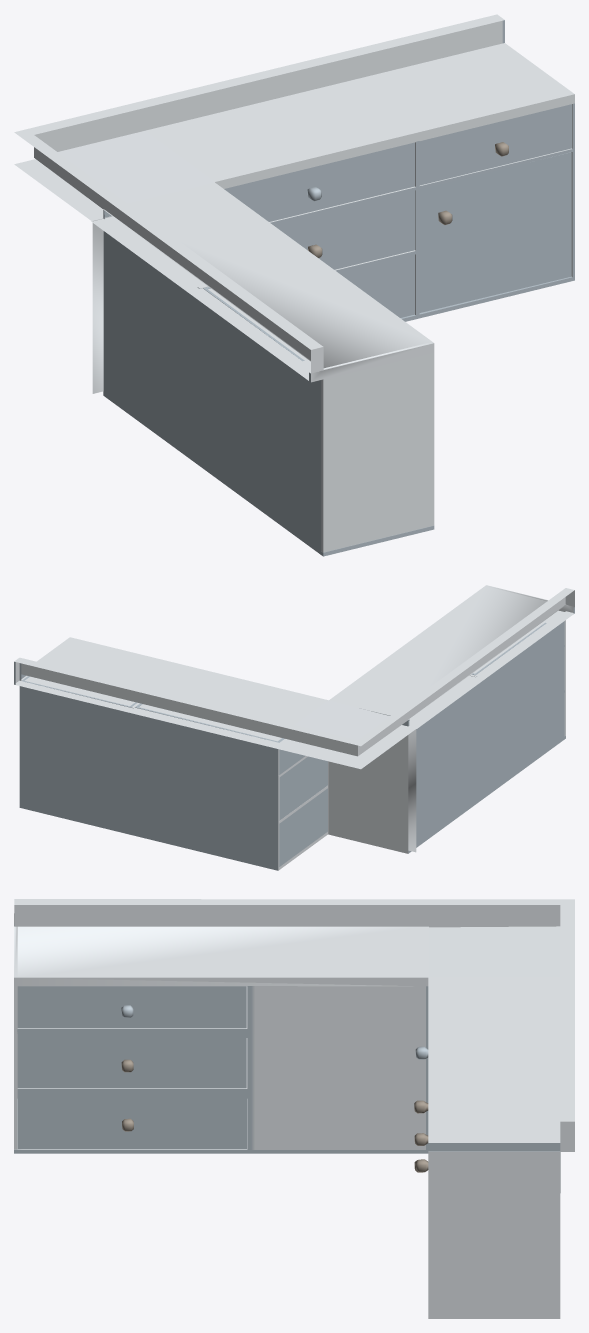
The model's file is Shelf.fbx.
The picture shows the model from 3 angles, top to bottom: view 1: azimuth 30°, elevation 25°; view 2: azimuth 150°, elevation 25°; view 3: azimuth 270°, elevation 25°; orthographic projection. The views are drawn at different scales.
Parts seen in each view (by area): view 1: Shelf, drawer.005, drawer.001, drawer.003, drawer.002, drawer.006; view 2: Shelf, drawer.003, drawer.006, drawer.002, drawer.001; view 3: Shelf, drawer, drawer.007, drawer.004.
Part boxes in pixels (x1,y1,x2,y2): Shelf: (14, 14, 574, 556); drawer.005: (419, 152, 571, 312); drawer.001: (224, 142, 414, 221); drawer.003: (419, 104, 571, 185); drawer.002: (273, 190, 415, 269); drawer.006: (339, 254, 414, 317); Shelf: (14, 585, 574, 870); drawer.003: (21, 676, 137, 739); drawer.006: (279, 788, 327, 866); drawer.002: (279, 756, 327, 820); drawer.001: (135, 703, 305, 774); Shelf: (14, 899, 574, 1318); drawer: (18, 1092, 246, 1149); drawer.007: (17, 1032, 246, 1088); drawer.004: (17, 986, 246, 1028).
Size of the model in its own units: 257 by 106 by 273.
